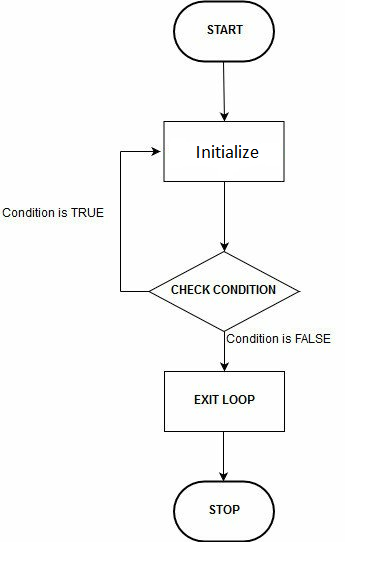arrow: (116, 145, 165, 296), (218, 181, 230, 253), (218, 60, 230, 123), (218, 429, 230, 483), (217, 329, 232, 372)
decision: (145, 250, 302, 334)
process: (160, 118, 290, 186), (161, 368, 289, 435)
terminator: (170, 478, 277, 544), (170, 1, 279, 65)
text: (1, 203, 108, 220), (168, 281, 281, 296), (225, 331, 335, 346), (192, 142, 261, 161), (191, 389, 256, 409), (205, 22, 247, 38), (206, 501, 242, 516)
